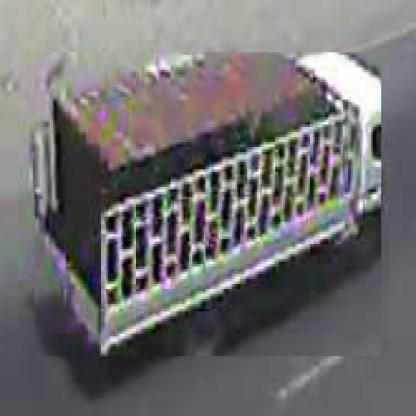truck: (34, 53, 382, 360)
